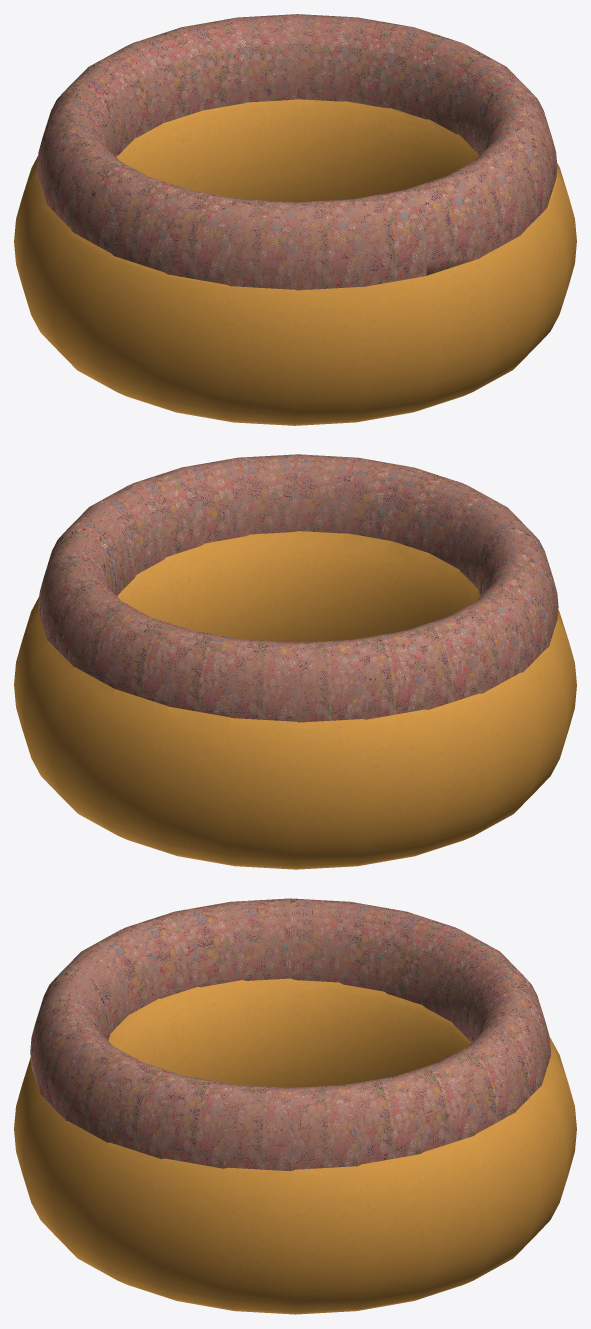
The model's file is minidonut.dae.
3 renders of one model, top to bottom at view 1: azimuth 30°, elevation 25°; view 2: azimuth 150°, elevation 25°; view 3: azimuth 270°, elevation 25°, orthographic.
Visible parts, largest first — view 1: SketchUp_001, SketchUp; view 2: SketchUp_001, SketchUp; view 3: SketchUp_001, SketchUp.
Part boxes in pixels (x1,y1,x2,y2): SketchUp_001: [14, 99, 576, 425]; SketchUp: [37, 14, 557, 290]; SketchUp_001: [14, 531, 576, 869]; SketchUp: [38, 454, 558, 722]; SketchUp_001: [14, 978, 576, 1314]; SketchUp: [30, 898, 550, 1171].
Bounding box in the file's own units: 0.6198 × 0.6168 × 0.2674.
Materials: 2 (2 with a texture image).
